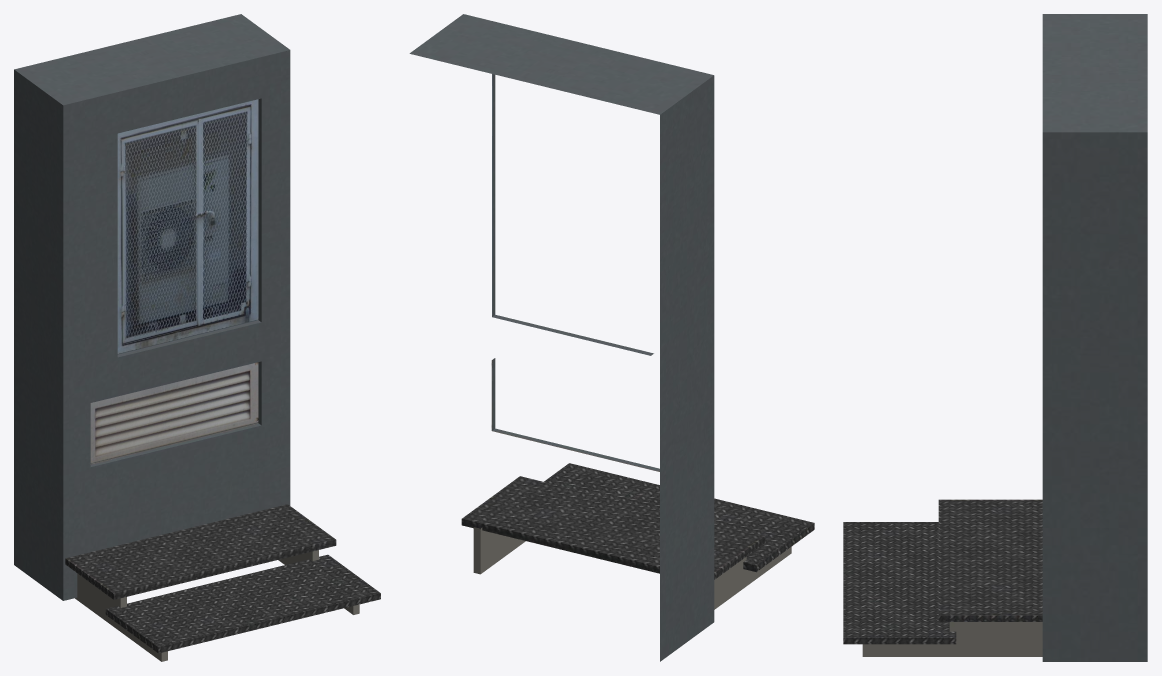
File: control_terminal.glb
3 views of the same model, side by side, from view 1: azimuth 30°, elevation 25°; view 2: azimuth 150°, elevation 25°; view 3: azimuth 270°, elevation 25° (orthographic). The views are drawn at different scales.
Visible parts, largest first — view 1: control_terminal; view 2: control_terminal; view 3: control_terminal.
Part boxes in pixels (bbox=[...]): control_terminal: bbox=[14, 14, 380, 661]; control_terminal: bbox=[409, 14, 814, 661]; control_terminal: bbox=[843, 14, 1147, 661].
Size of the model in its own units: 3 by 6.3 by 3.26.
1 material, 1 textured.
